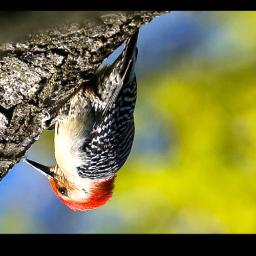Woodpecker: (19, 30, 139, 211)
